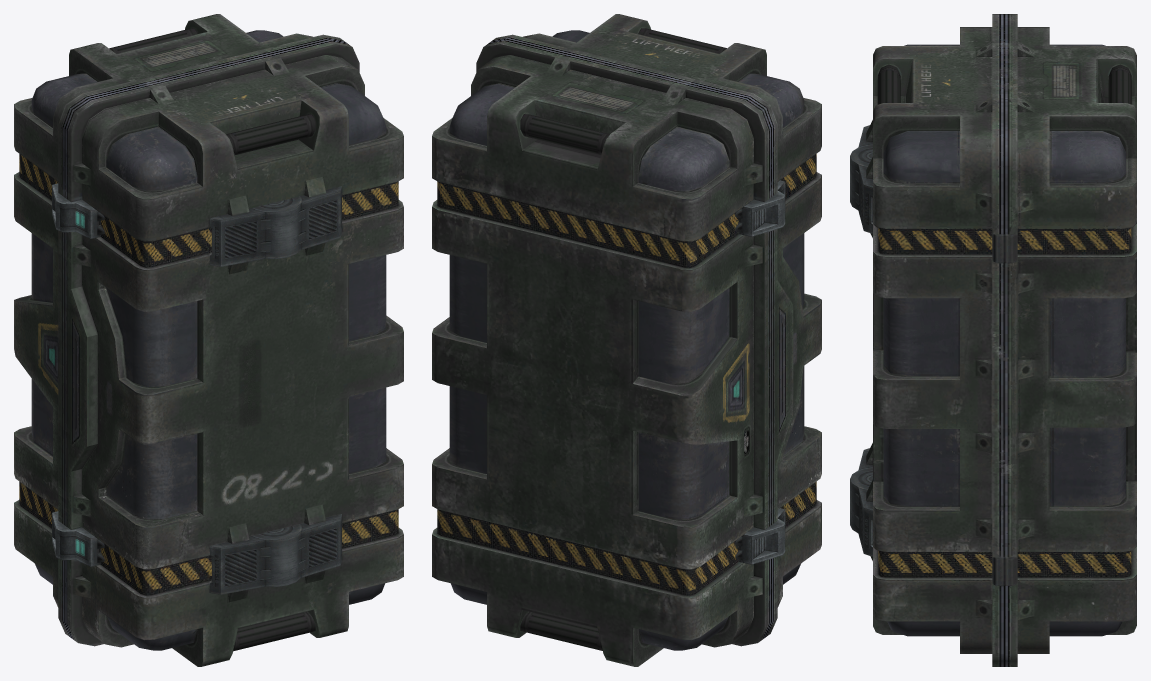
Rendered from t6_wpn_supply_drop_ally_LOD0.obj.
The picture shows the model from 3 angles, left to right: view 1: azimuth 30°, elevation 25°; view 2: azimuth 150°, elevation 25°; view 3: azimuth 270°, elevation 25°; orthographic projection.
Parts seen in each view (by area): view 1: mtl_t6_wpn_supply_drop_ally; view 2: mtl_t6_wpn_supply_drop_ally; view 3: mtl_t6_wpn_supply_drop_ally.
Boxes of the visible parts, box(x1,y1,x2,y2) form: mtl_t6_wpn_supply_drop_ally: box(14, 14, 403, 666); mtl_t6_wpn_supply_drop_ally: box(432, 14, 821, 666); mtl_t6_wpn_supply_drop_ally: box(850, 14, 1136, 666).
Size of the model in its own units: 108 by 187 by 90.68.
